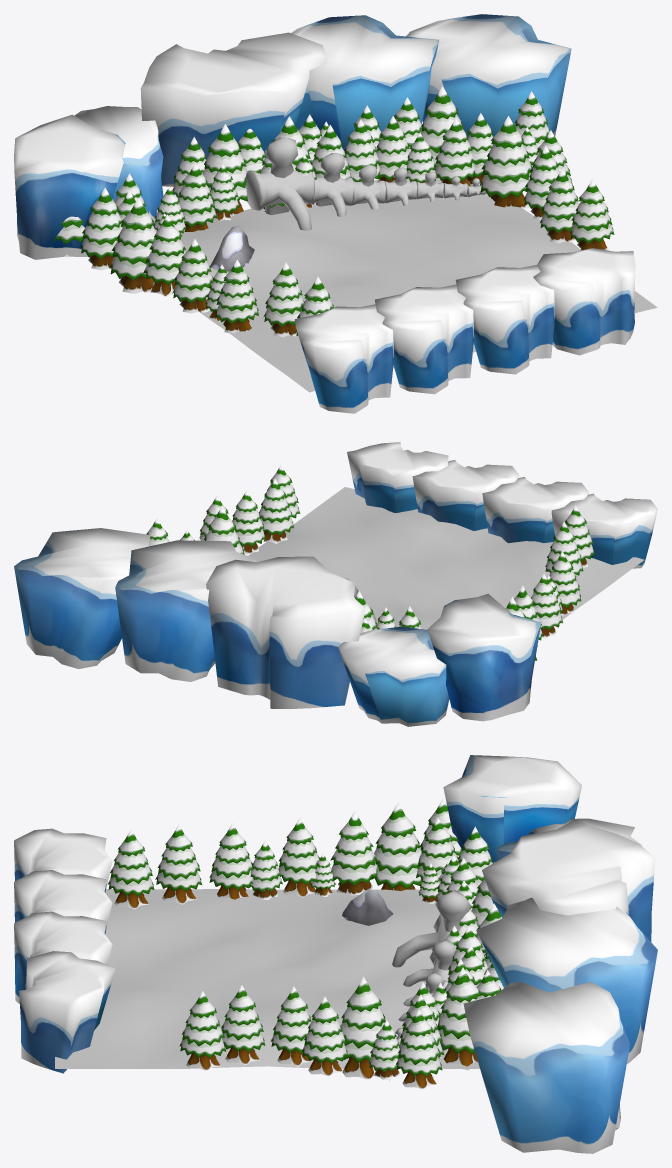
The model's file is Map_1_A_1.FBX.
The picture shows the model from 3 angles, top to bottom: view 1: azimuth 30°, elevation 25°; view 2: azimuth 150°, elevation 25°; view 3: azimuth 270°, elevation 25°; orthographic projection. The views are drawn at different scales.
Parts seen in each view (by area): view 1: tereno1, Iceberg018, Iceberg017, Iceberg016, Iceberg01, Animal bones, Iceberg011, Iceberg023, Iceberg022, Iceberg021, Iceberg019, Three068 (+30 smaller); view 2: tereno1, Iceberg018, Iceberg017, Iceberg016, Iceberg01, Iceberg019, Iceberg022, Iceberg023, Iceberg021, Iceberg011, Three073, Three077 (+8 smaller); view 3: tereno1, Iceberg017, Iceberg016, Iceberg018, Iceberg01, Iceberg011, Iceberg021, Iceberg022, Iceberg023, Animal bones, Three057, Three068 (+24 smaller).
Boxes of the visible parts, <box> form: tereno1: <box>180,178,657,392</box>; Iceberg018: <box>140,32,326,186</box>; Iceberg017: <box>406,14,571,137</box>; Iceberg016: <box>291,15,438,151</box>; Iceberg01: <box>14,114,125,259</box>; Animal bones: <box>245,137,486,230</box>; Iceberg011: <box>533,248,635,355</box>; Iceberg023: <box>294,304,394,413</box>; Iceberg022: <box>375,284,474,394</box>; Iceberg021: <box>455,265,554,374</box>; Iceberg019: <box>74,106,163,226</box>; Three068: <box>479,116,532,209</box>; tereno1: <box>248,487,644,629</box>; Iceberg018: <box>206,556,365,708</box>; Iceberg017: <box>14,528,150,669</box>; Iceberg016: <box>115,540,256,681</box>; Iceberg01: <box>427,593,541,721</box>; Iceberg019: <box>338,626,449,726</box>; Iceberg022: <box>482,477,588,543</box>; Iceberg023: <box>551,493,657,568</box>; Iceberg021: <box>412,460,519,530</box>; Iceberg011: <box>347,442,448,512</box>; Three073: <box>259,478,294,543</box>; Three077: <box>232,490,265,555</box>; tereno1: <box>55,889,479,1068</box>; Iceberg017: <box>463,981,630,1153</box>; Iceberg016: <box>476,897,657,1063</box>; Iceberg018: <box>482,819,655,941</box>; Iceberg01: <box>443,755,581,863</box>; Iceberg011: <box>19,951,115,1073</box>; Iceberg021: <box>14,911,112,1004</box>; Iceberg022: <box>14,870,112,933</box>; Iceberg023: <box>14,828,112,892</box>; Animal bones: <box>389,890,476,1080</box>; Three057: <box>370,802,421,890</box>; Three068: <box>340,976,385,1080</box>.
Bounding box in the file's own units: 800 × 183 × 758.
